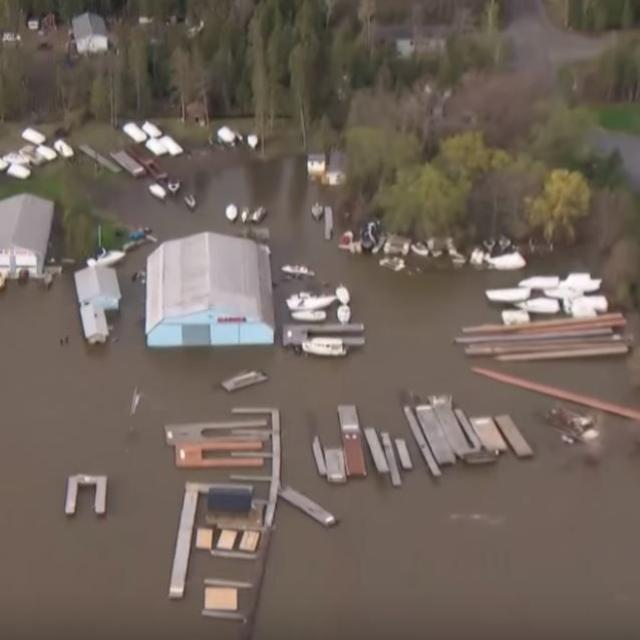flooded_areas: (5, 145, 639, 639)
